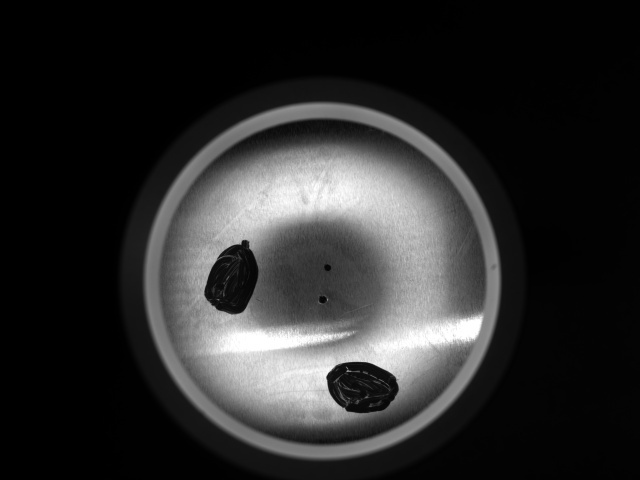zang_wu: (325, 356, 404, 416), (204, 238, 258, 315)
zhen_kong: (321, 261, 336, 275), (316, 293, 331, 306)
